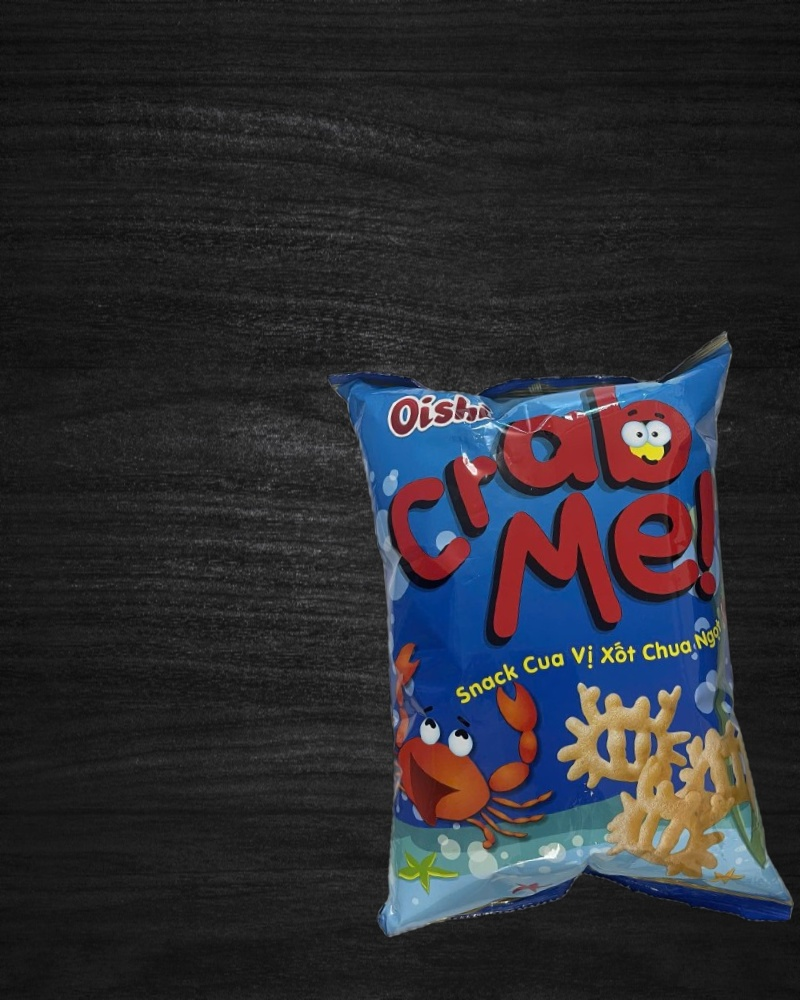Snack chay: (327, 330, 796, 958)
